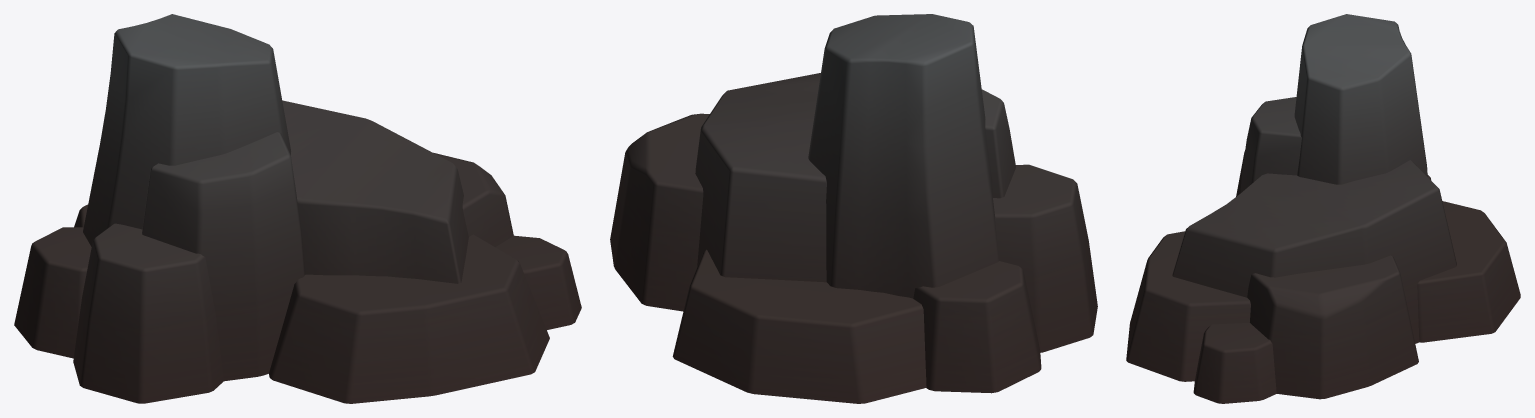
Rendered from inferno-cliff-004.glb.
The picture shows the model from 3 angles, left to right: view 1: azimuth 30°, elevation 25°; view 2: azimuth 150°, elevation 25°; view 3: azimuth 270°, elevation 25°; orthographic projection. The views are drawn at different scales.
Visible parts, largest first — view 1: Cliff_004; view 2: Cliff_004; view 3: Cliff_004.
Part boxes in pixels (x1,y1,x2,y2): Cliff_004: (14,14,581,403); Cliff_004: (610,14,1097,403); Cliff_004: (1126,14,1520,403).
Bounding box in the file's own units: 233 × 141 × 210.
1 material, 1 textured.
